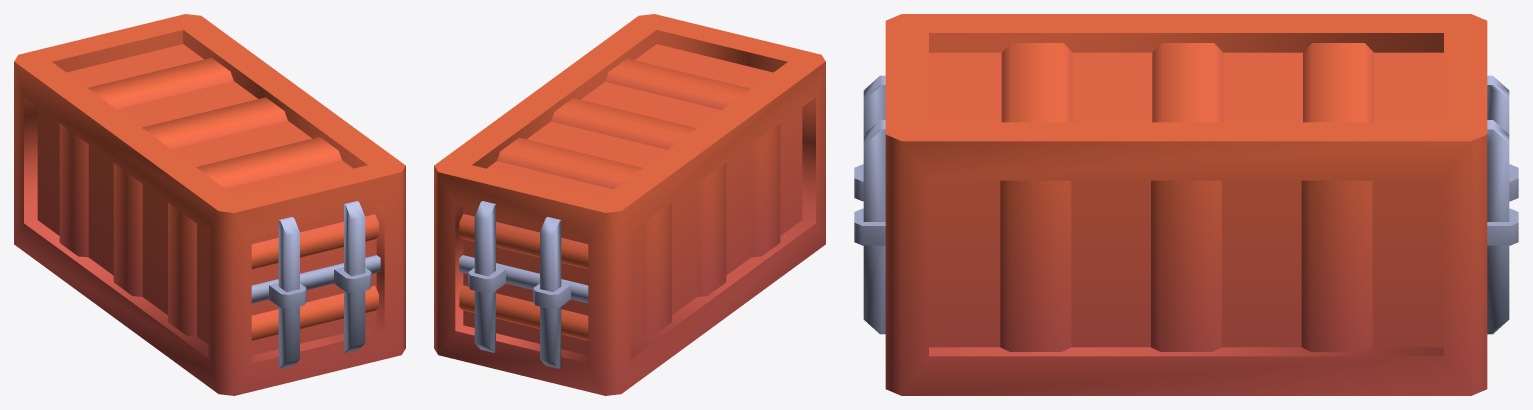
The model's file is container_0.fbx.
3 views of the same model, side by side, from view 1: azimuth 30°, elevation 25°; view 2: azimuth 150°, elevation 25°; view 3: azimuth 270°, elevation 25° (orthographic). The views are drawn at different scales.
Visible parts, largest first — view 1: container_0; view 2: container_0; view 3: container_0.
Boxes of the visible parts, <box> form: container_0: <box>14,14,405,395</box>; container_0: <box>434,14,825,395</box>; container_0: <box>854,14,1518,395</box>.
Bounding box in the file's own units: 0.3726 × 0.3481 × 0.8226.
Materials: 1 (1 with a texture image).
